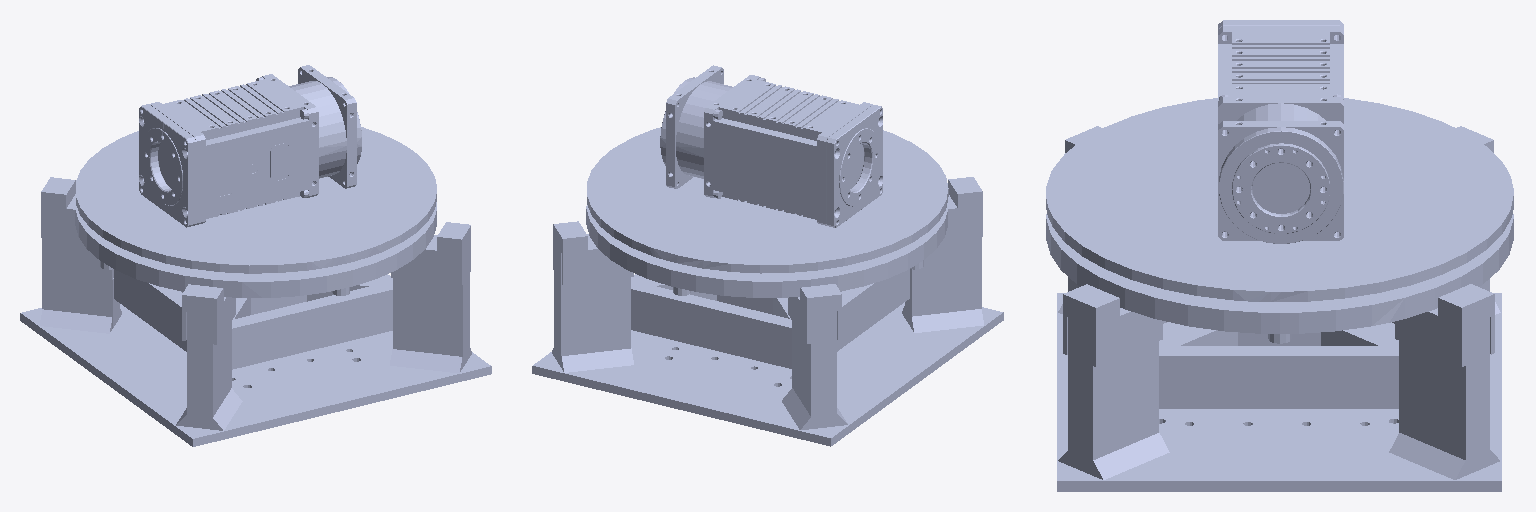
The robot description file, URDF, robot "Robotic_Arm":
<?xml version="1.0" encoding="utf-8"?>
<!-- This URDF was automatically created by SolidWorks to URDF Exporter! Originally created by [author] ([email redacted]) 
     Commit Version: 1.5.0-0-g9aa0fdb  Build Version: 1.5.7004.21443
     For more information, please see http://wiki.ros.org/sw_urdf_exporter -->
<robot
  name="Robotic_Arm">
  <link
    name="base_link">
    <inertial>
      <origin
        xyz="0.0774708799257212 -0.132939686251078 0.112012504856854"
        rpy="0 0 0" />
      <mass
        value="0.747959008431586" />
      <inertia
        ixx="0.00225732454406487"
        ixy="2.23393818619845E-07"
        ixz="-8.10787308199329E-08"
        iyy="0.00225790967012925"
        iyz="-1.05696847837817E-07"
        izz="0.00397889227994719" />
    </inertial>
    <visual>
      <origin
        xyz="0 0 0"
        rpy="0 0 0" />
      <geometry>
        <mesh
          filename="package://Robotic_Arm/meshes/base_link.STL" />
      </geometry>
      <material
        name="">
        <color
          rgba="0.792156862745098 0.819607843137255 0.933333333333333 1" />
      </material>
    </visual>
    <collision>
      <origin
        xyz="0 0 0"
        rpy="0 0 0" />
      <geometry>
        <mesh
          filename="package://Robotic_Arm/meshes/base_link.STL" />
      </geometry>
    </collision>
  </link>
  <link
    name="arm_link_1">
    <inertial>
      <origin
        xyz="-0.00239858695687688 0.0219611736481823 -0.0003654164395194"
        rpy="0 0 0" />
      <mass
        value="0.449107745713973" />
      <inertia
        ixx="0.000523763857142063"
        ixy="1.15326500818541E-09"
        ixz="-4.78493706030122E-08"
        iyy="0.00111509105724734"
        iyz="2.79923026040524E-10"
        izz="0.000722742804240784" />
    </inertial>
    <visual>
      <origin
        xyz="0 0 0"
        rpy="0 0 0" />
      <geometry>
        <mesh
          filename="package://Robotic_Arm/meshes/arm_link_1.STL" />
      </geometry>
      <material
        name="">
        <color
          rgba="0.792156862745098 0.819607843137255 0.933333333333333 1" />
      </material>
    </visual>
    <collision>
      <origin
        xyz="0 0 0"
        rpy="0 0 0" />
      <geometry>
        <mesh
          filename="package://Robotic_Arm/meshes/arm_link_1.STL" />
      </geometry>
    </collision>
  </link>
  <joint
    name="arm_joint_1"
    type="continuous">
    <origin
      xyz="0.077663 -0.13275 0.16758"
      rpy="1.5708 0 0" />
    <parent
      link="base_link" />
    <child
      link="arm_link_1" />
    <axis
      xyz="0 1 0" />
    <limit
      lower="0"
      upper="3.14"
      effort="0"
      velocity="0" />
    <safety_controller
      k_velocity="0" />
  </joint>
</robot>

--- What the picture shows (computed from the rendered views, not written in the file) ---
Views: 3 orthographic renders of the robot side by side, from view 1: azimuth 30°, elevation 25°; view 2: azimuth 150°, elevation 25°; view 3: azimuth 270°, elevation 25°.
Robot: Robotic_Arm — 2 links, 1 joints (1 continuous); root link base_link; default pose: all joints at 0.
Links seen in each view (by area): view 1: base_link, arm_link_1; view 2: base_link, arm_link_1; view 3: base_link, arm_link_1.
Boxes of the visible links, <box> form: base_link: <box>20,177,491,446</box>; arm_link_1: <box>76,65,436,273</box>; base_link: <box>532,177,1003,446</box>; arm_link_1: <box>587,65,948,273</box>; base_link: <box>1046,126,1513,491</box>; arm_link_1: <box>1046,20,1513,301</box>.
Size in the robot's own frame: 0.2 by 0.2 by 0.1505 metres.
Meshes: 2 distinct files referenced, 2 mesh visuals loaded (2 binary STL).